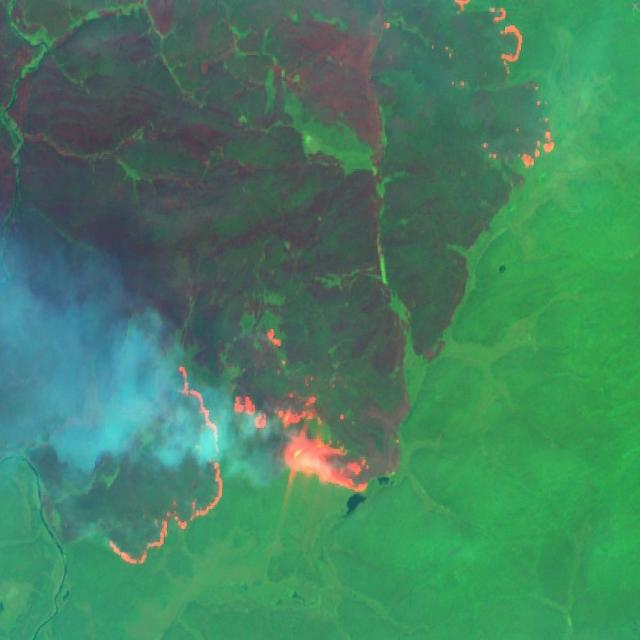fire: (102, 324, 372, 562), (449, 0, 558, 178)
